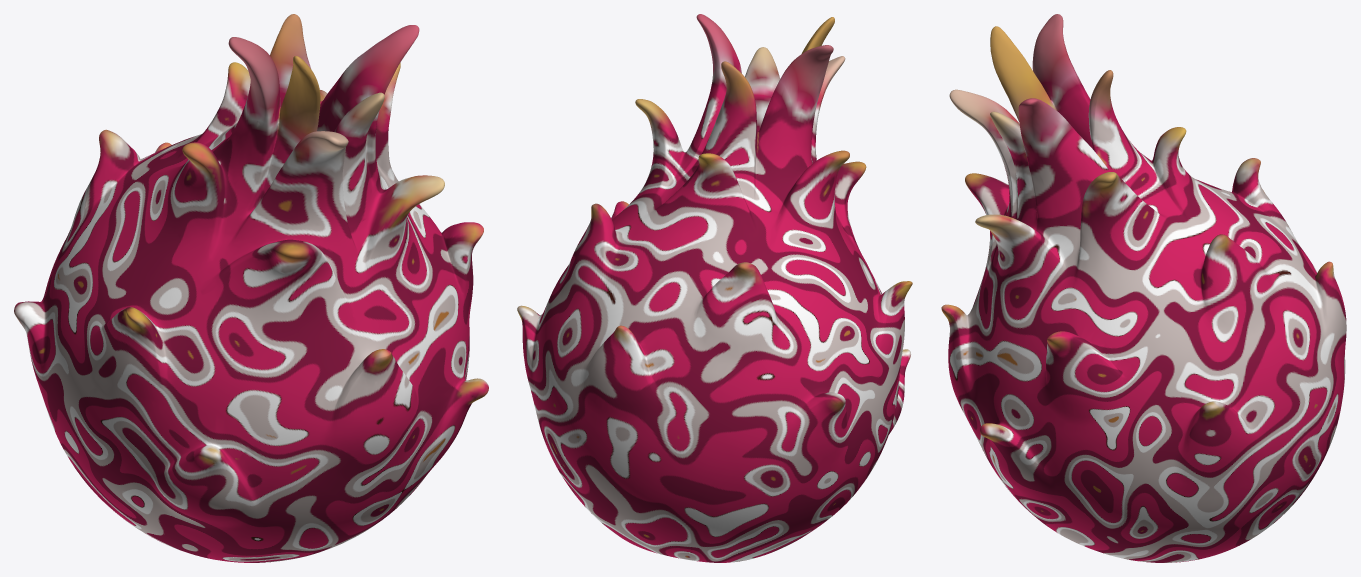
Rendered from dragonfruit.glb.
3 views of the same model, side by side, from view 1: azimuth 30°, elevation 25°; view 2: azimuth 150°, elevation 25°; view 3: azimuth 270°, elevation 25° (orthographic). The views are drawn at different scales.
Parts seen in each view (by area): view 1: dragonfruit_Body0; view 2: dragonfruit_Body0; view 3: dragonfruit_Body0.
Boxes of the visible parts, x1,y1,x2,y2 form: dragonfruit_Body0: (14,14,488,562); dragonfruit_Body0: (517,14,912,562); dragonfruit_Body0: (941,14,1346,562).
Size of the model in its own units: 1.33 by 1.8 by 1.34.
Materials: 1 (1 with a texture image).
